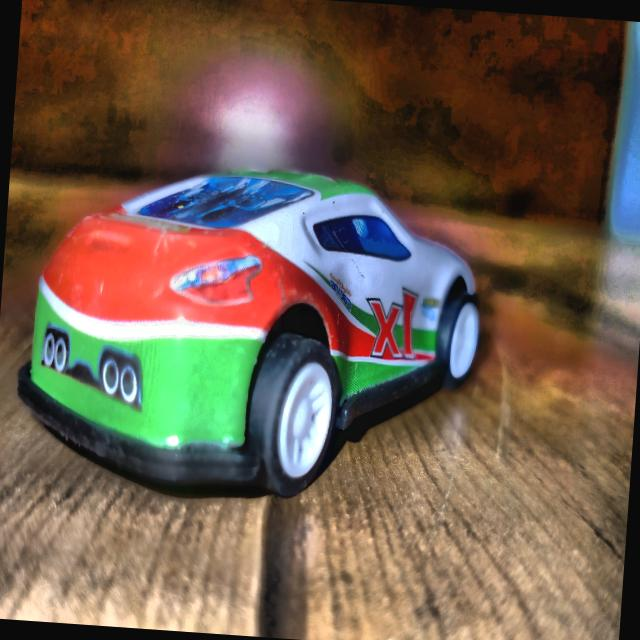Car: (11, 154, 488, 508)
